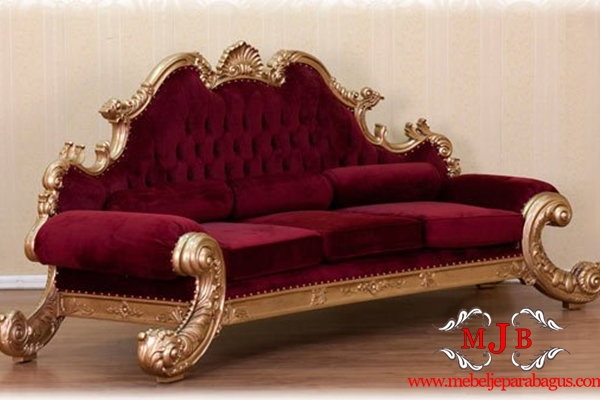Carving Chair: (37, 49, 575, 374)
